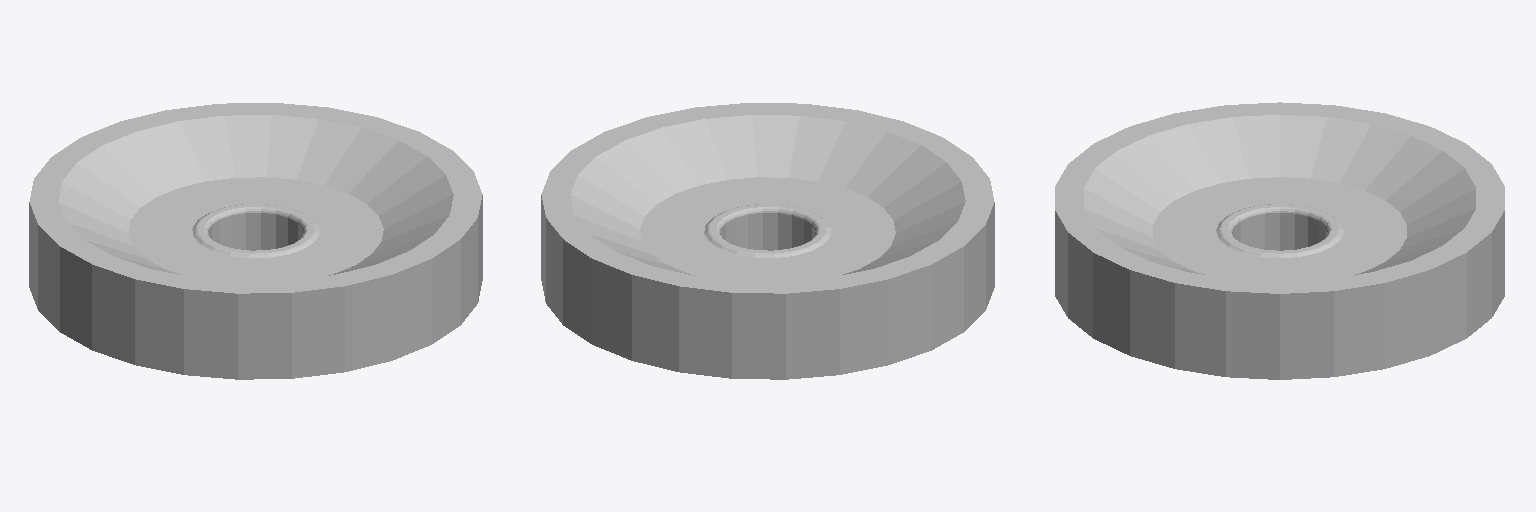
Rendered from roundBaseHole.obj.
The picture shows the model from 3 angles: view 1: azimuth 30°, elevation 25°; view 2: azimuth 150°, elevation 25°; view 3: azimuth 270°, elevation 25°; orthographic projection.
Visible parts, largest first — view 1: roundBaseHole; view 2: roundBaseHole; view 3: roundBaseHole.
Boxes of the visible parts, <box> form: roundBaseHole: <box>29,103,482,379</box>; roundBaseHole: <box>541,103,994,379</box>; roundBaseHole: <box>1055,102,1504,379</box>.
Size of the model in its own units: 0.9071 by 0.2552 by 0.9005.